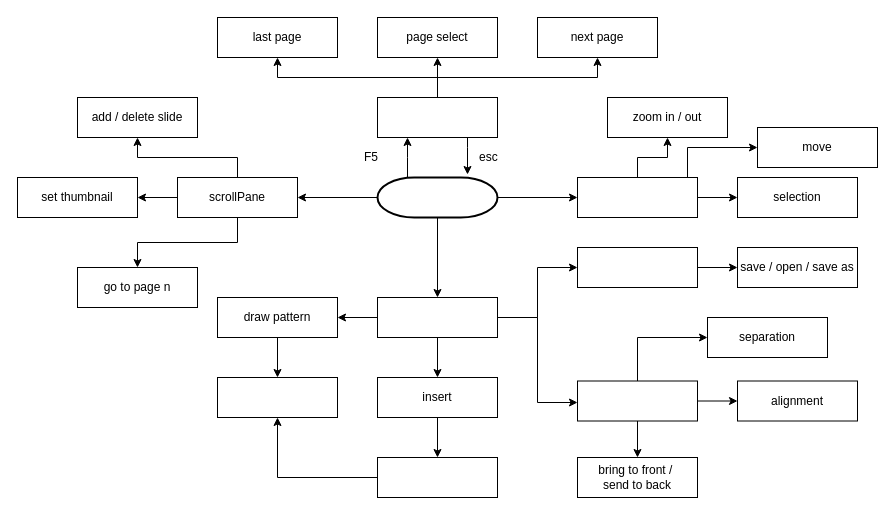
Some shapes in this 895 by 515 pixel diagram are drawn without their labels. Each missing label, with the box of its shape:
arrangement: (576, 380, 698, 421)
color, fill, border, rotation, clipper: (216, 376, 338, 418)
file: (576, 246, 698, 288)
image / form/ text: (376, 456, 498, 498)
launch: (376, 176, 498, 218)
pane: (576, 176, 698, 218)
slideshow: (376, 96, 498, 138)
toolbar: (376, 296, 498, 338)
